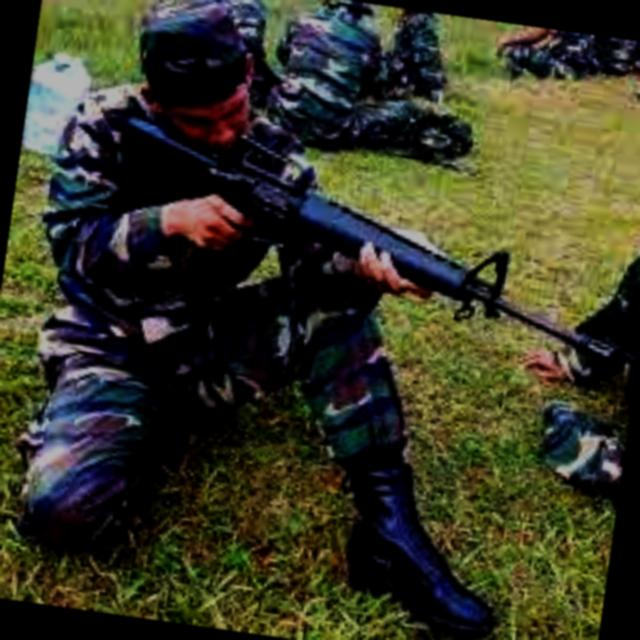m16: (68, 90, 640, 385)
